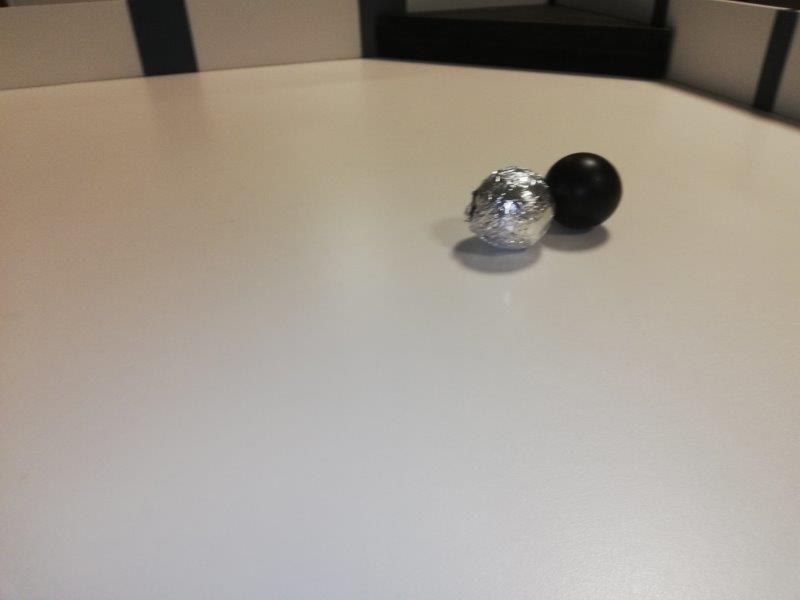bianca: (466, 164, 553, 251)
nera: (545, 151, 624, 232)
